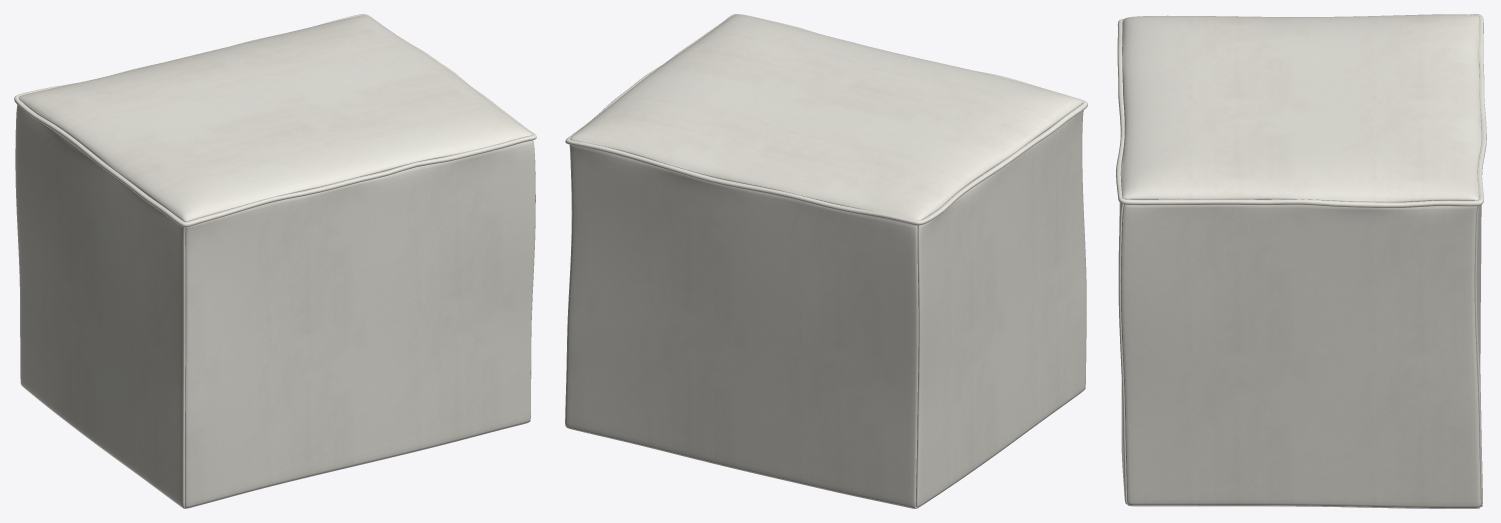
Rendered from Tapicerk_i_krzesla_puf_4_you.obj.
3 views of the same model, side by side, from view 1: azimuth 30°, elevation 25°; view 2: azimuth 150°, elevation 25°; view 3: azimuth 270°, elevation 25° (orthographic). The views are drawn at different scales.
Parts seen in each view (by area): view 1: Box064; view 2: Box064; view 3: Box064.
Boxes of the visible parts, box(x1,y1,x2,y2) form: Box064: box(14, 14, 536, 508); Box064: box(565, 14, 1087, 508); Box064: box(1116, 14, 1486, 508).
Size of the model in its own units: 48.33 by 38.81 by 40.34.
